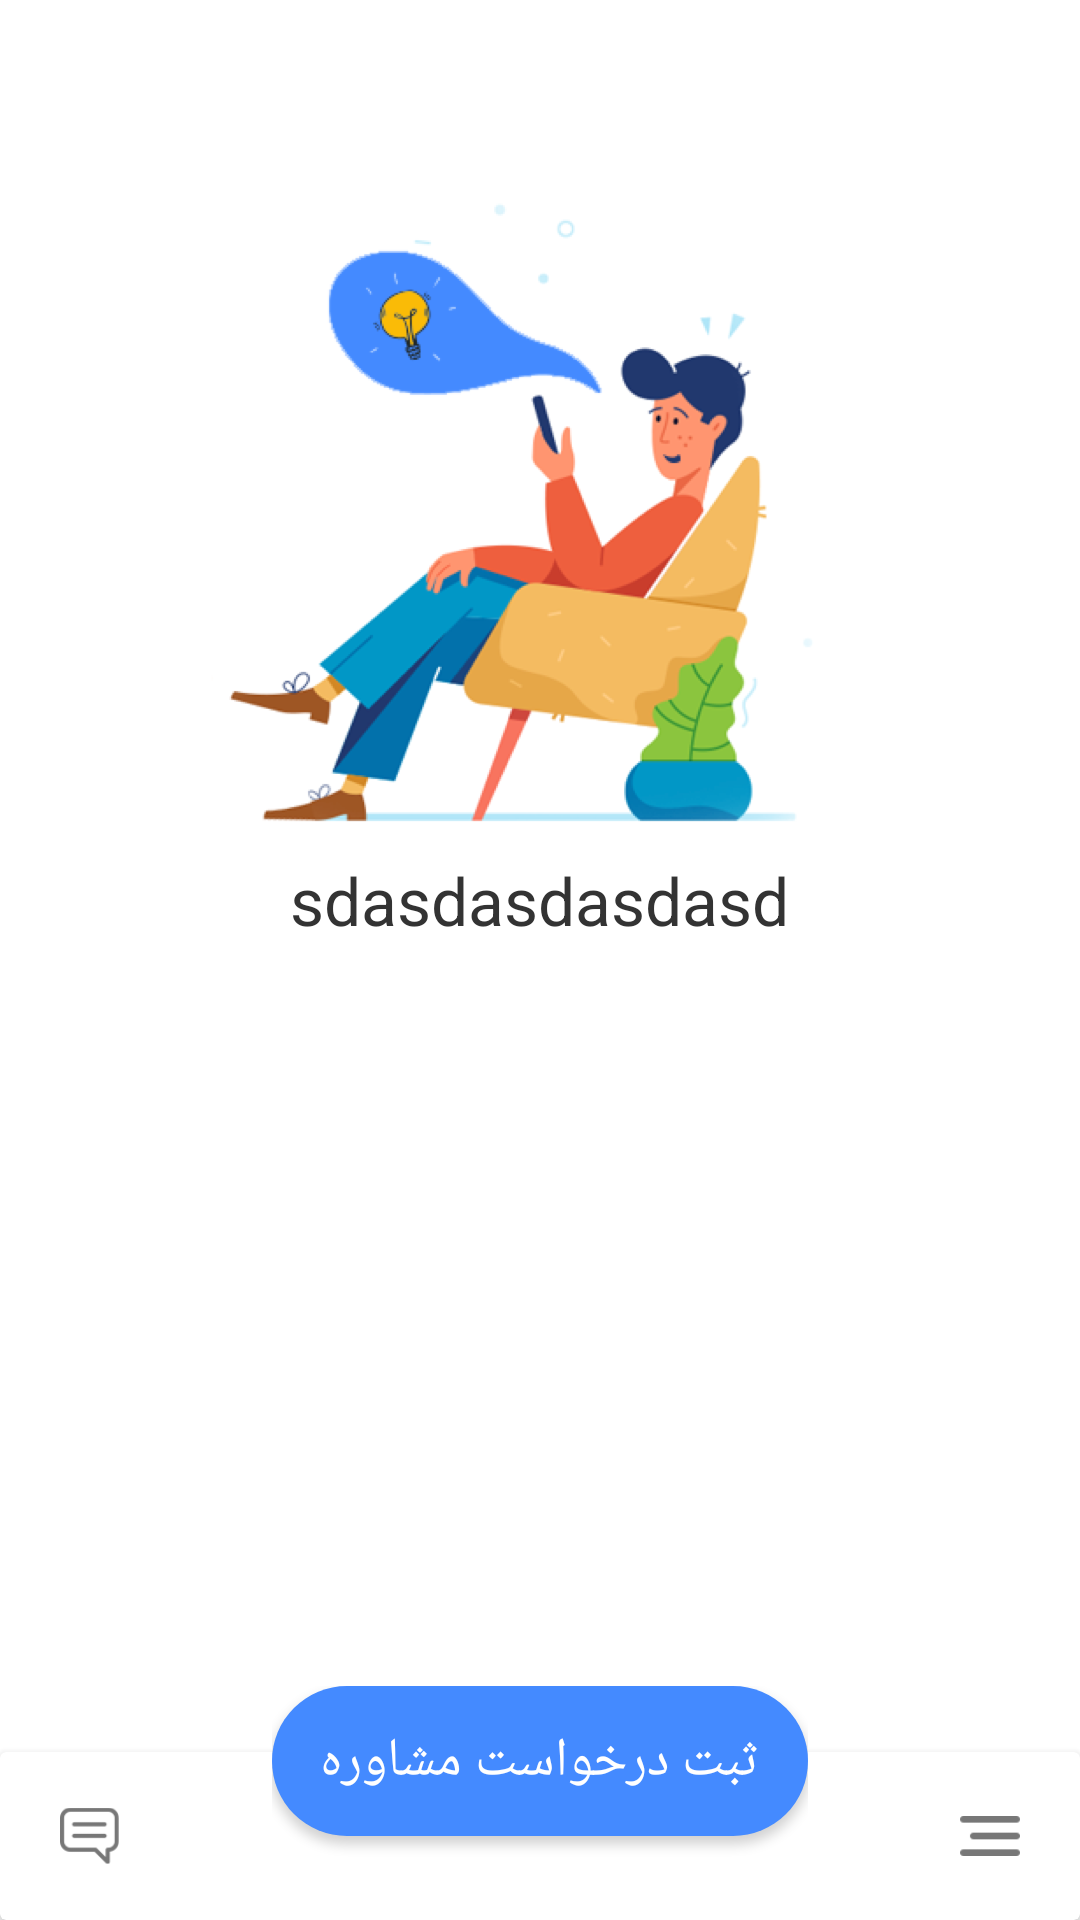

Where icons sit on this 1080w x 1920h app screen, as {"left": x1, "top": y1, "right": x2, "bottom": y2}:
chat: {"left": 60, "top": 1808, "right": 119, "bottom": 1864}
menu: {"left": 960, "top": 1816, "right": 1020, "bottom": 1856}
